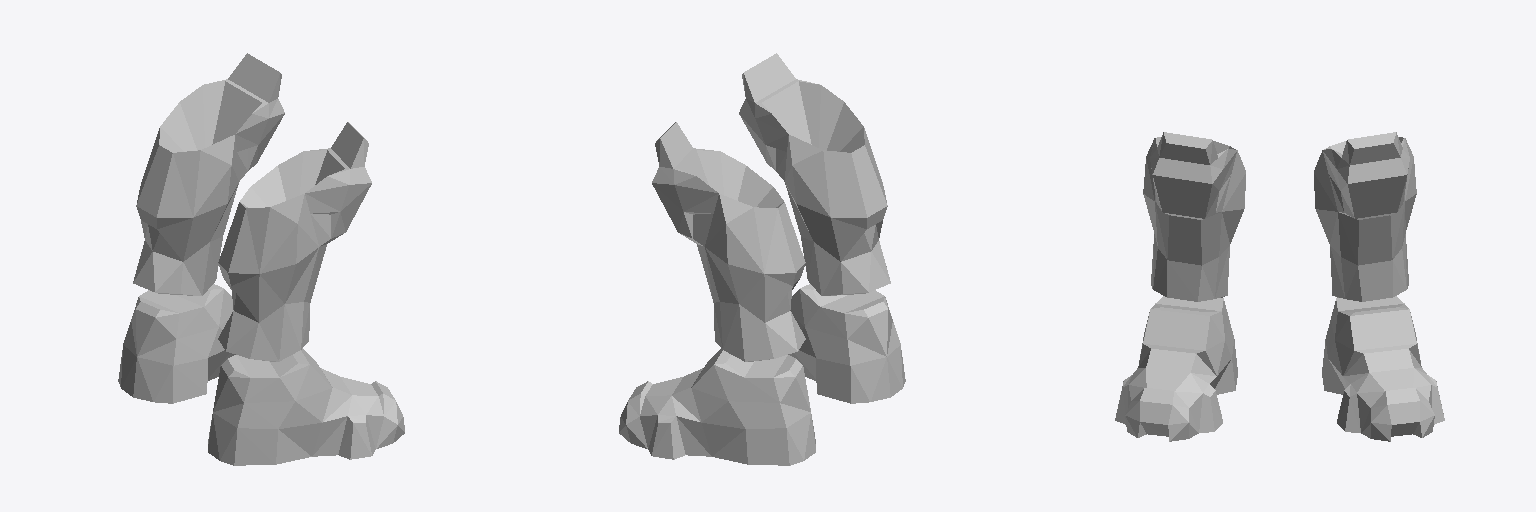
The model's file is feet.obj.
3 views of the same model, side by side, from view 1: azimuth 30°, elevation 25°; view 2: azimuth 150°, elevation 25°; view 3: azimuth 270°, elevation 25° (orthographic).
Visible parts, largest first — view 1: feet_Mesh.258; view 2: feet_Mesh.258; view 3: feet_Mesh.258.
Part boxes in pixels (left/top/right/bottom): feet_Mesh.258: left=118, top=53, right=404, bottom=465; feet_Mesh.258: left=619, top=53, right=905, bottom=465; feet_Mesh.258: left=1115, top=132, right=1444, bottom=441.
Bounding box in the file's own units: 0.3527 × 0.5827 × 0.5885.